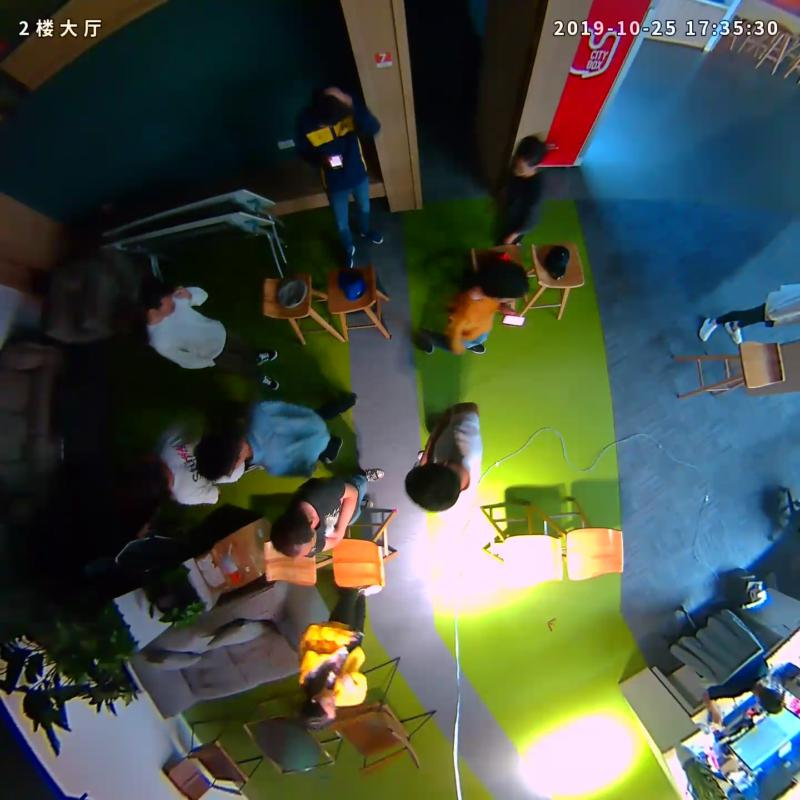head: (404, 463, 462, 513), (195, 431, 253, 481), (114, 455, 175, 501), (477, 257, 533, 301), (272, 511, 319, 559), (138, 274, 176, 320), (301, 688, 340, 731), (311, 82, 350, 125), (512, 135, 543, 178)
